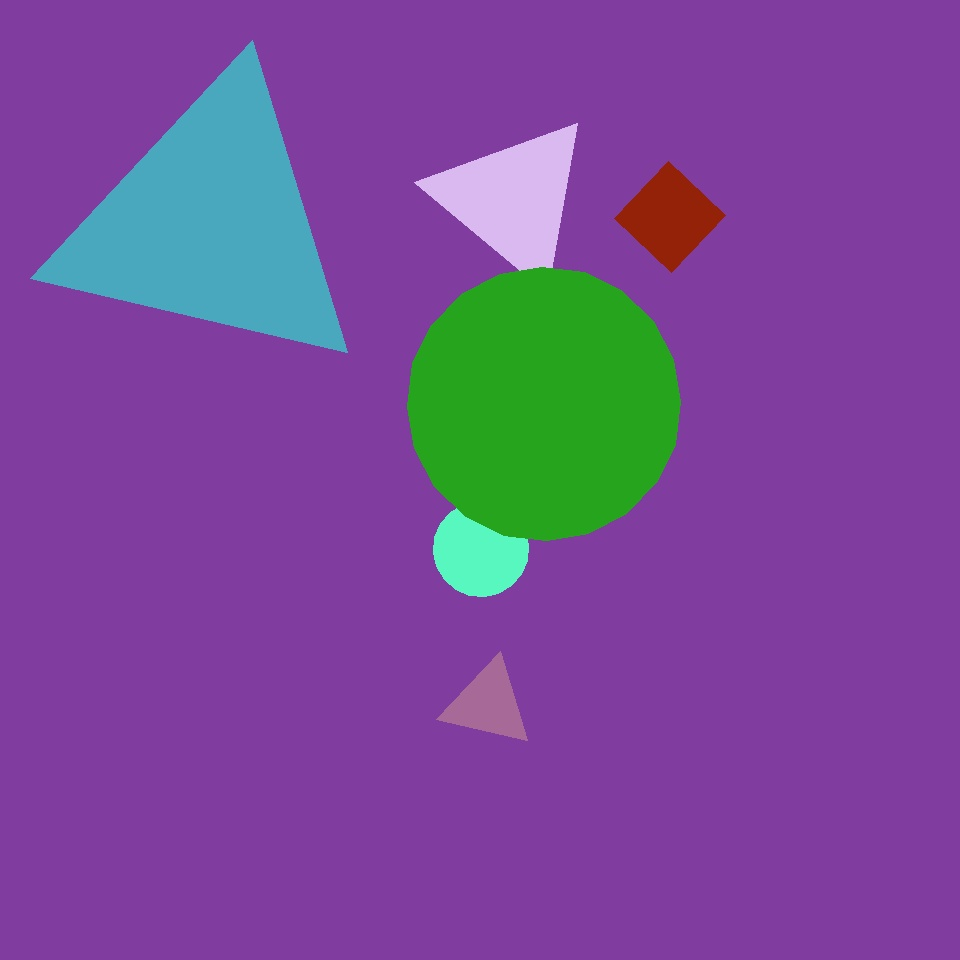circle: (52, 68, 368, 380), (432, 115, 595, 285), (442, 659, 534, 748)
square: (594, 723, 750, 878), (548, 723, 684, 859), (614, 162, 726, 272)
triangle: (407, 268, 680, 540), (283, 62, 523, 302), (187, 387, 423, 623), (434, 502, 528, 596)
